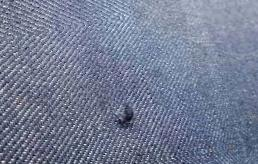knot: (114, 104, 138, 130)
